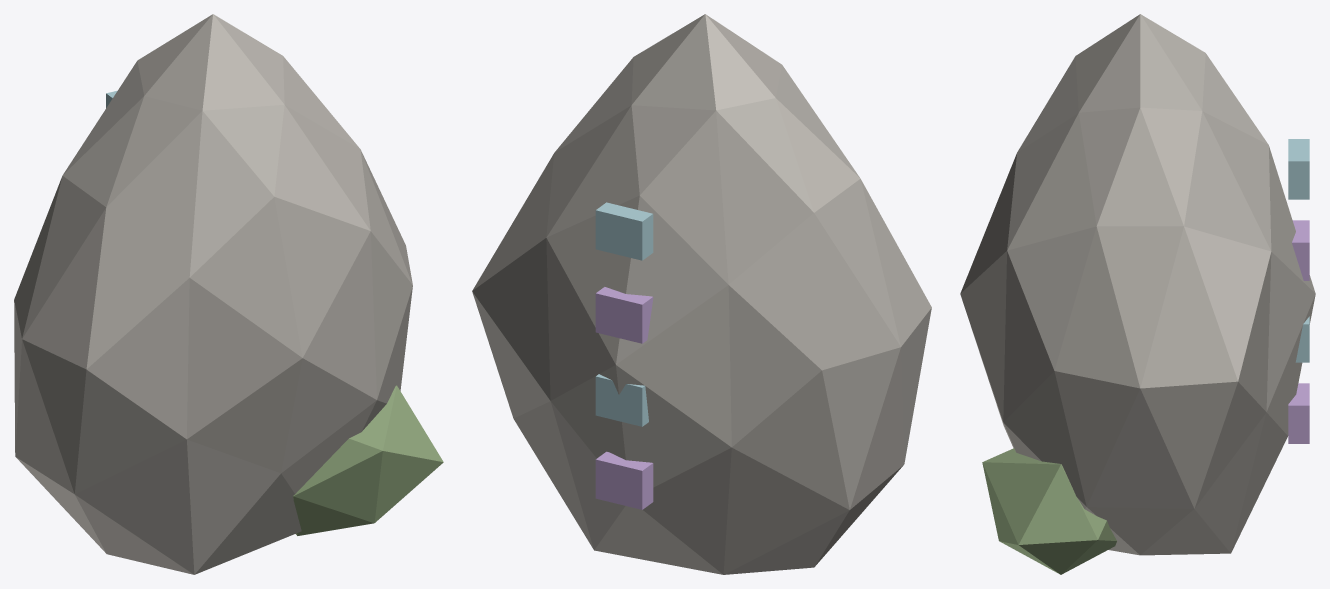
File: menhir.glb
3 views of the same model, side by side, from view 1: azimuth 30°, elevation 25°; view 2: azimuth 150°, elevation 25°; view 3: azimuth 270°, elevation 25° (orthographic). The views are drawn at different scales.
Visible parts, largest first — view 1: menhir; view 2: menhir; view 3: menhir.
Part boxes in pixels (left/top/right/bottom): menhir: left=14, top=14, right=443, bottom=574; menhir: left=472, top=14, right=931, bottom=574; menhir: left=960, top=14, right=1315, bottom=574.
Bounding box in the file's own units: 0.8425 × 1.08 × 0.6724.
